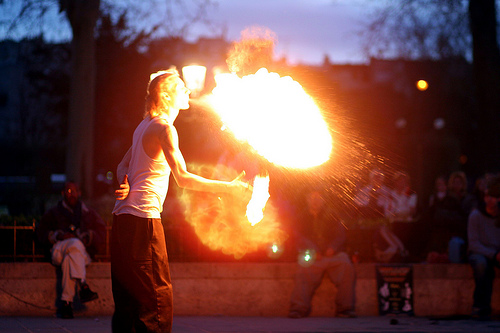fire: (179, 61, 350, 189)
